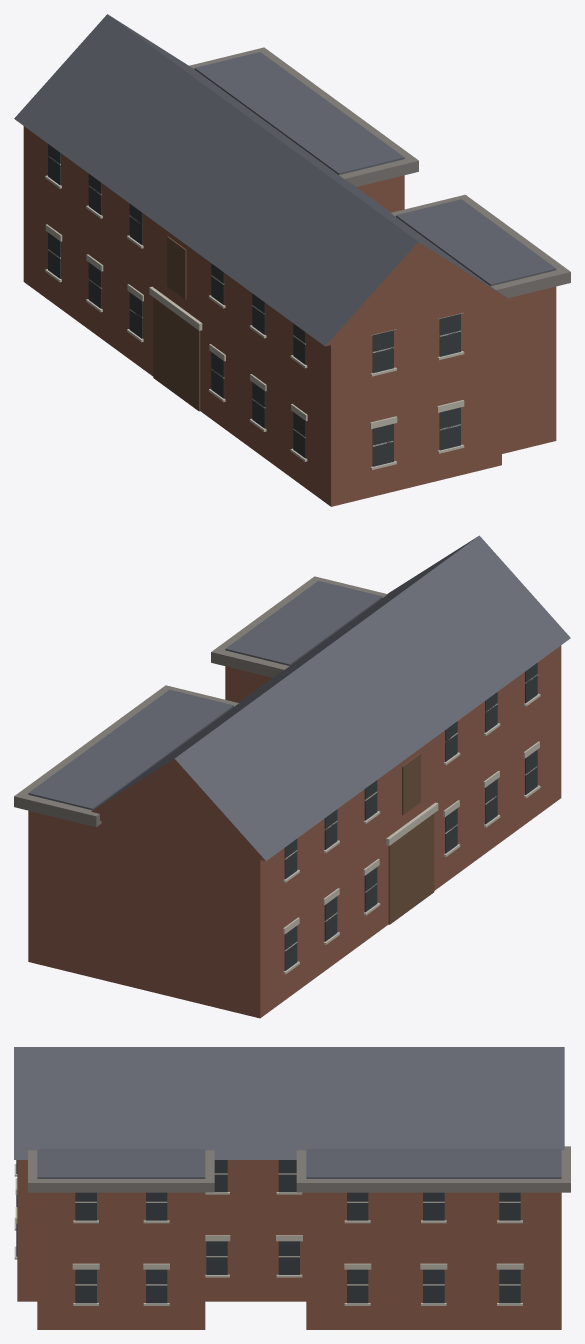
File: sherman_house_2100_prairie_coach_house__draft_1904.glb
The picture shows the model from 3 angles, top to bottom: view 1: azimuth 30°, elevation 25°; view 2: azimuth 150°, elevation 25°; view 3: azimuth 270°, elevation 25°; orthographic projection. The views are drawn at different scales.
Visible parts, largest first — view 1: sherman_house_2100_prairie_coach_house__draft_1904; view 2: sherman_house_2100_prairie_coach_house__draft_1904; view 3: sherman_house_2100_prairie_coach_house__draft_1904.
Part boxes in pixels (left/top/right/bottom): sherman_house_2100_prairie_coach_house__draft_1904: left=14, top=14, right=570, bottom=506; sherman_house_2100_prairie_coach_house__draft_1904: left=14, top=535, right=570, bottom=1018; sherman_house_2100_prairie_coach_house__draft_1904: left=14, top=1047, right=570, bottom=1329.
Bounding box in the file's own units: 9.65 × 8.93 × 20.72.
